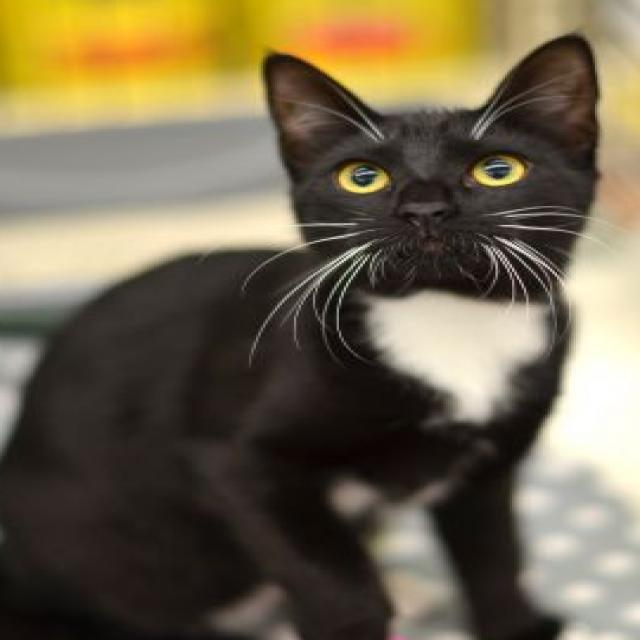Tuxedo: (0, 26, 609, 640)
